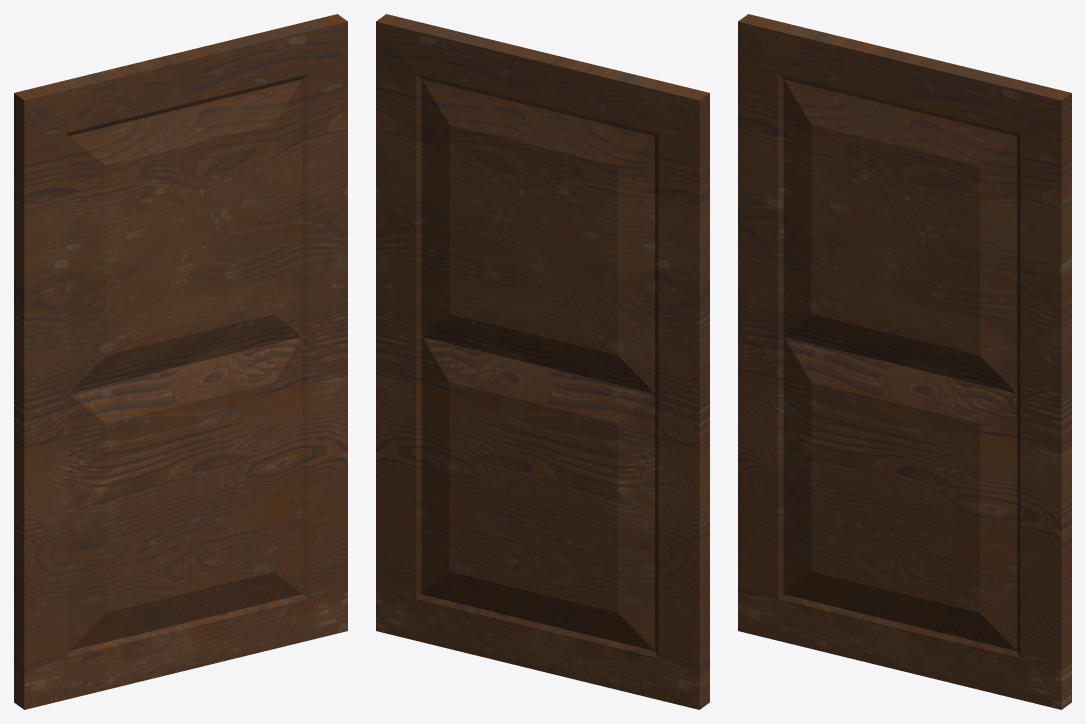
File: Door.glb
The picture shows the model from 3 angles, left to right: view 1: azimuth 30°, elevation 25°; view 2: azimuth 150°, elevation 25°; view 3: azimuth 330°, elevation 25°; orthographic projection.
Parts seen in each view (by area): view 1: Door; view 2: Door; view 3: Door.
Part boxes in pixels (<box>): Door: <box>14,14,347,709</box>; Door: <box>376,14,709,709</box>; Door: <box>738,14,1071,709</box>.
Bounding box in the file's own units: 1 × 1.8 × 0.1.
Materials: 1 (1 with a texture image).
